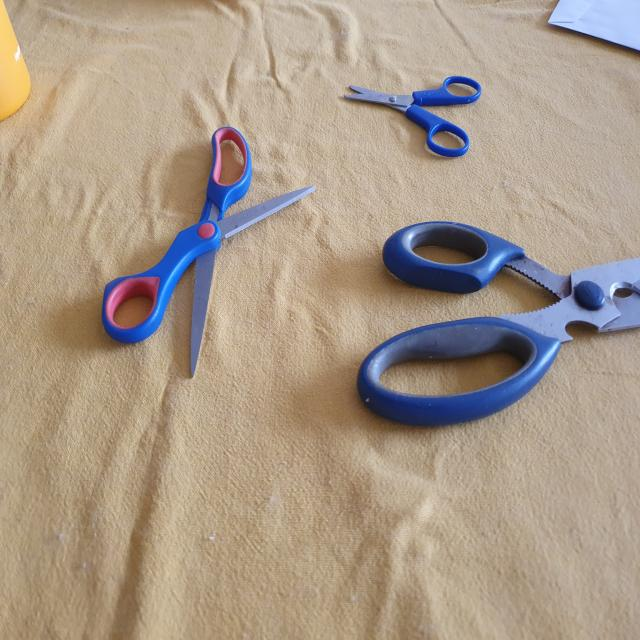scissors: (349, 215, 640, 430), (98, 125, 320, 388), (346, 68, 483, 165)
